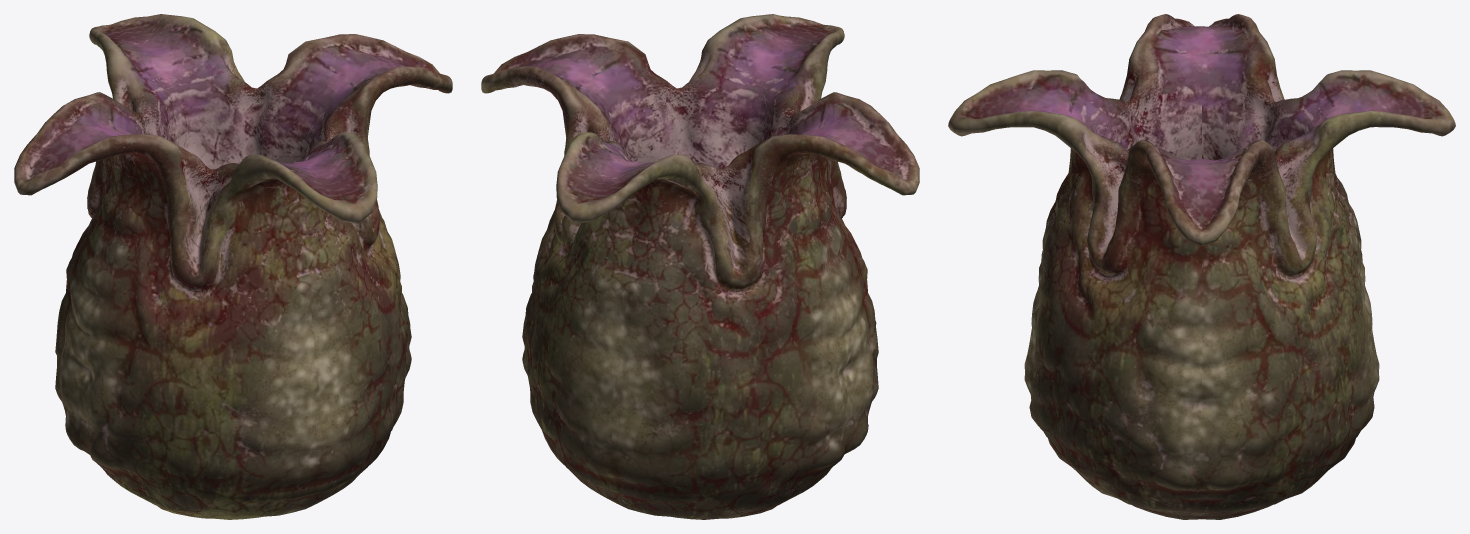
File: egg.glb
3 views of the same model, side by side, from view 1: azimuth 30°, elevation 25°; view 2: azimuth 150°, elevation 25°; view 3: azimuth 270°, elevation 25° (orthographic).
Parts seen in each view (by area): view 1: egg_low_Material.001_0; view 2: egg_low_Material.001_0; view 3: egg_low_Material.001_0.
Part boxes in pixels (box(x1,y1,x2,y2)): egg_low_Material.001_0: box(14, 14, 452, 519); egg_low_Material.001_0: box(481, 14, 919, 519); egg_low_Material.001_0: box(948, 14, 1455, 519).
Size of the model in its own units: 3.56 by 3.15 by 3.65.
1 material, 1 textured.
